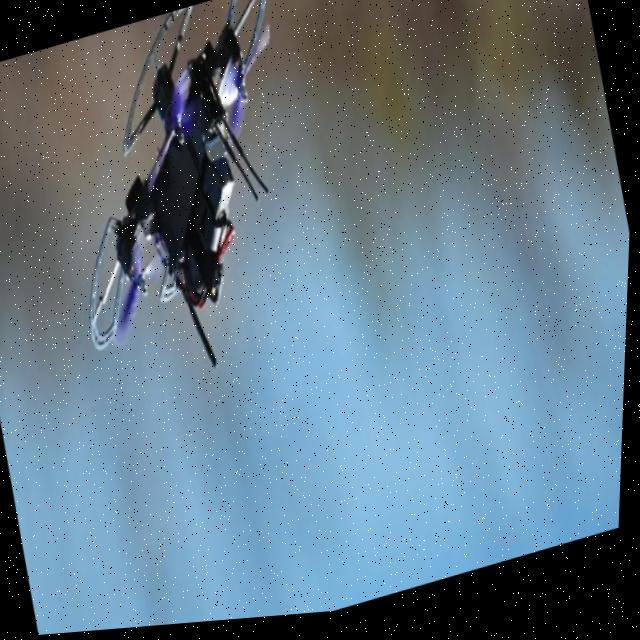drones: (23, 0, 357, 453)
